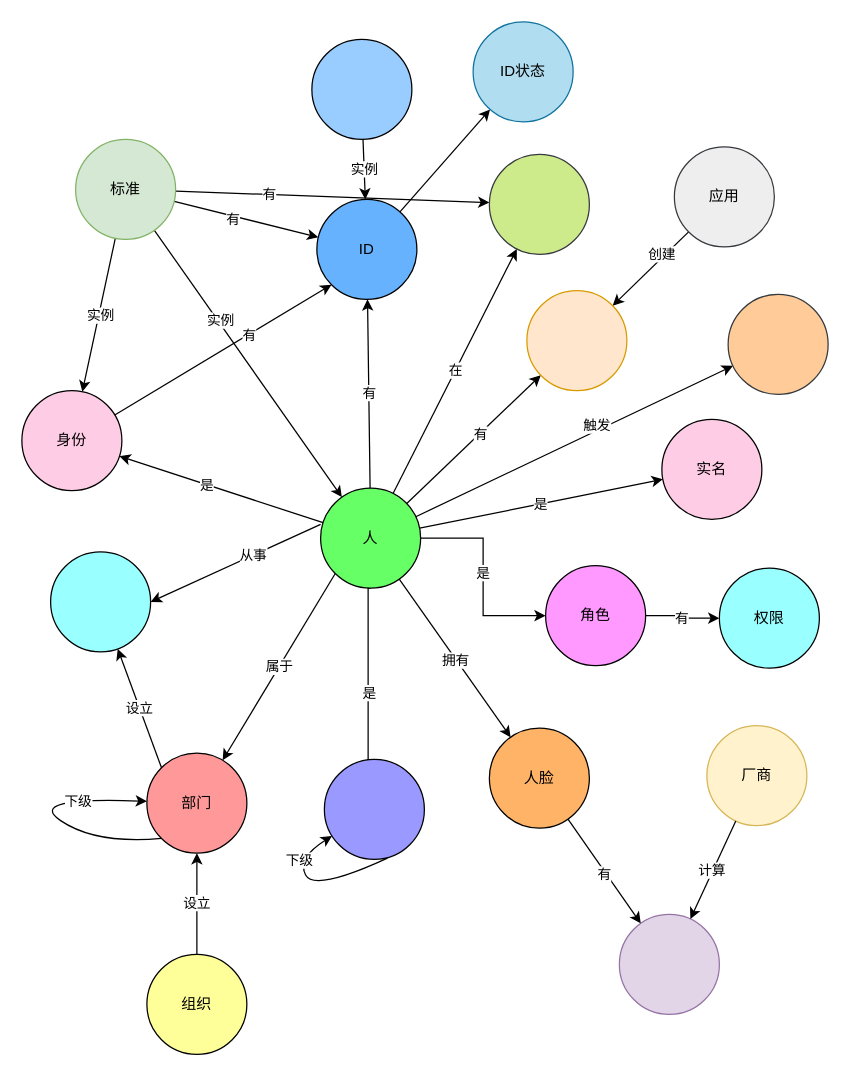
Image size: 850x1076. Some labels were removed from this diagram. The shapes that lost their labels are listed below. From the top down, each one's box as (x1, y1, x2, y2) in pixels, then its label:
(311, 38, 412, 139): ID定义
(488, 153, 589, 254): 人状态
(526, 289, 627, 391): 会话
(727, 293, 828, 394): 生涯事件
(49, 551, 151, 652): 岗位
(323, 758, 424, 859): 标签
(618, 913, 719, 1014): 特征
